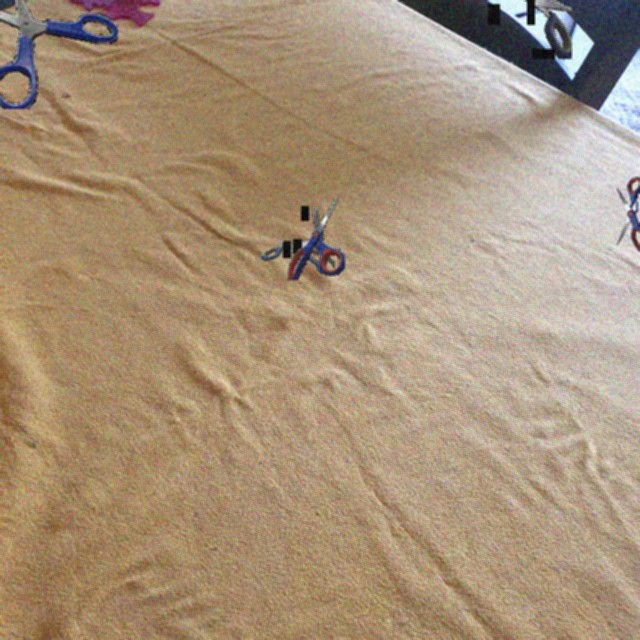scissors: (0, 0, 118, 109), (449, 0, 572, 59), (288, 198, 345, 280), (261, 237, 335, 271), (617, 177, 640, 255)
